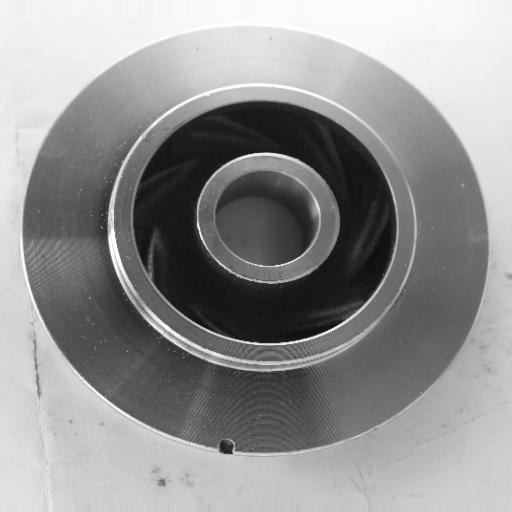pit: (207, 435, 248, 465)
unpolished_casting: (22, 24, 486, 460)
